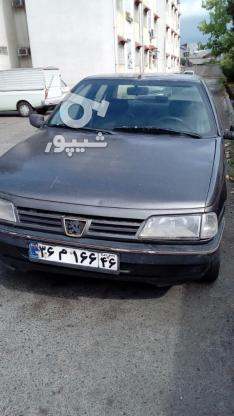car: (28, 239, 118, 275)
